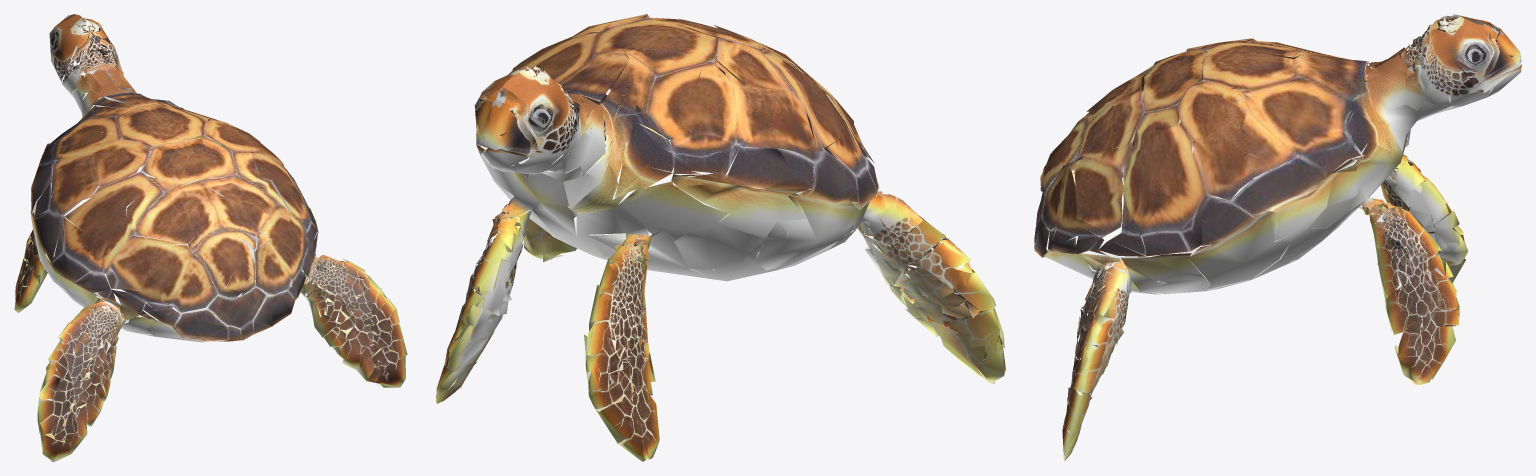
File: tartaruga.glb
3 renders of one model, left to right at view 1: azimuth 30°, elevation 25°; view 2: azimuth 150°, elevation 25°; view 3: azimuth 270°, elevation 25°, orthographic. The views are drawn at different scales.
Parts seen in each view (by area): view 1: tartaruga; view 2: tartaruga; view 3: tartaruga.
Part boxes in pixels (x1=…): tartaruga: x1=14, y1=14, x2=407, y2=461; tartaruga: x1=436, y1=14, x2=1005, y2=461; tartaruga: x1=1034, y1=14, x2=1521, y2=461.
Bounding box in the file's own units: 1.05 × 0.8156 × 1.01.
Materials: 1 (1 with a texture image).
